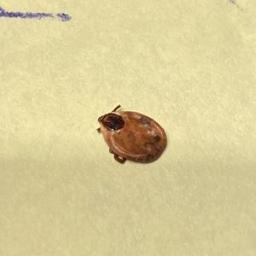Rhipicephalus sanguineus: (94, 104, 169, 164)
